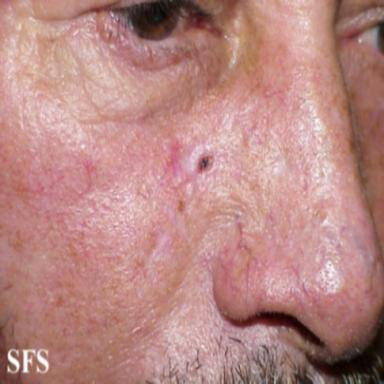basal-cell-carcinoma: (191, 144, 219, 180)
